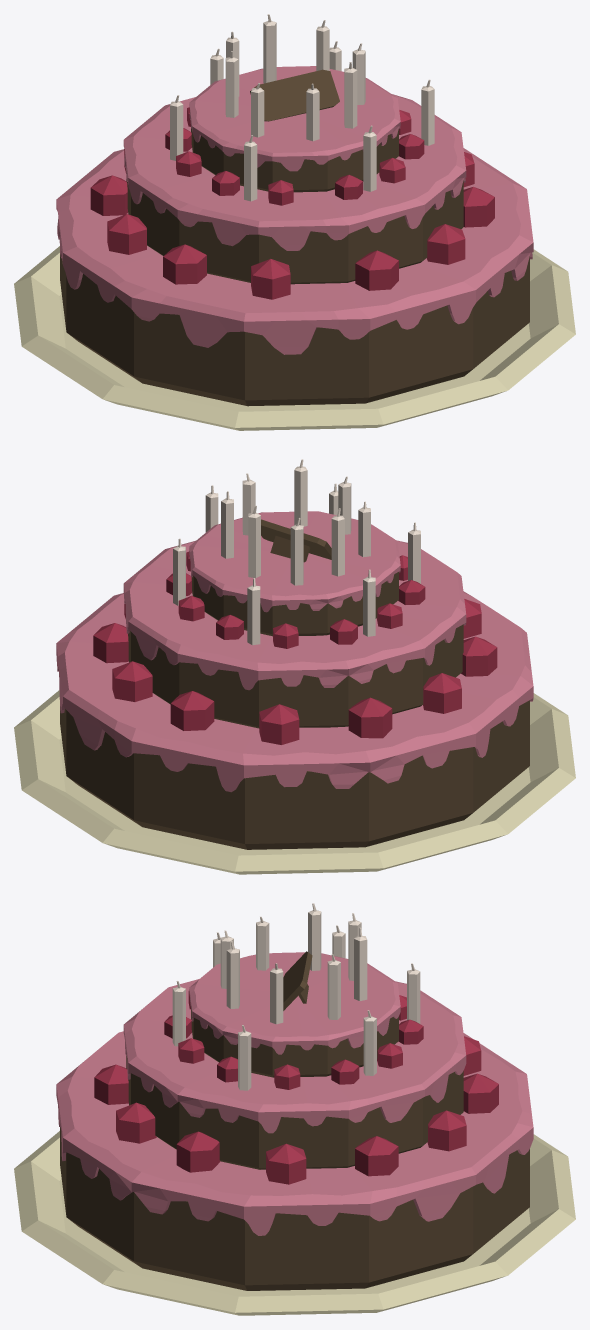
Rendered from mod_cake.fbx.
The picture shows the model from 3 angles, top to bottom: view 1: azimuth 30°, elevation 25°; view 2: azimuth 150°, elevation 25°; view 3: azimuth 270°, elevation 25°; orthographic projection.
Parts seen in each view (by area): view 1: mod_cake; view 2: mod_cake; view 3: mod_cake.
Boxes of the visible parts, x1,y1,x2,y2 form: mod_cake: (14, 14, 575, 430); mod_cake: (14, 459, 575, 874); mod_cake: (14, 903, 575, 1315).
Size of the model in its own units: 71.9 by 40.48 by 71.9.
